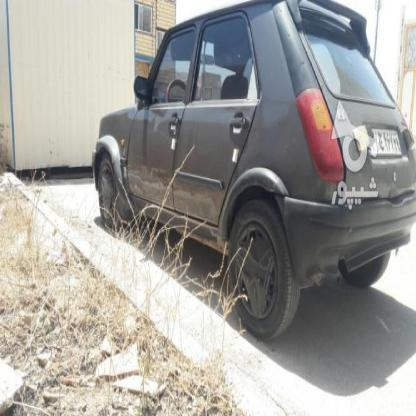licence: (365, 128, 400, 157)
